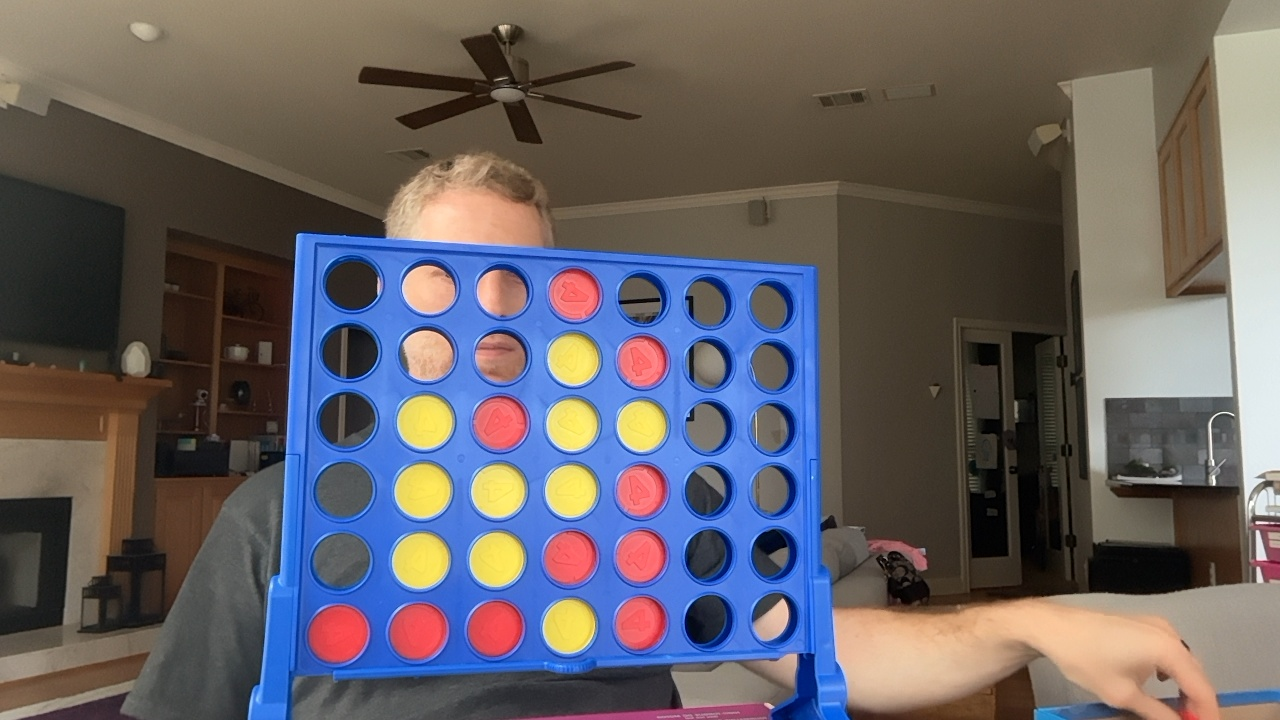yellow piece: (307, 605, 368, 664), (389, 603, 447, 661), (394, 462, 452, 519), (391, 532, 449, 589), (467, 601, 523, 658), (469, 531, 525, 588), (471, 463, 527, 519), (397, 394, 454, 449), (542, 598, 597, 654), (473, 396, 528, 450), (545, 463, 598, 519), (544, 531, 597, 586), (546, 398, 599, 451), (548, 332, 600, 386), (616, 463, 667, 518), (615, 596, 666, 651), (617, 335, 668, 389), (549, 268, 601, 320), (616, 530, 666, 583), (617, 400, 667, 452)
